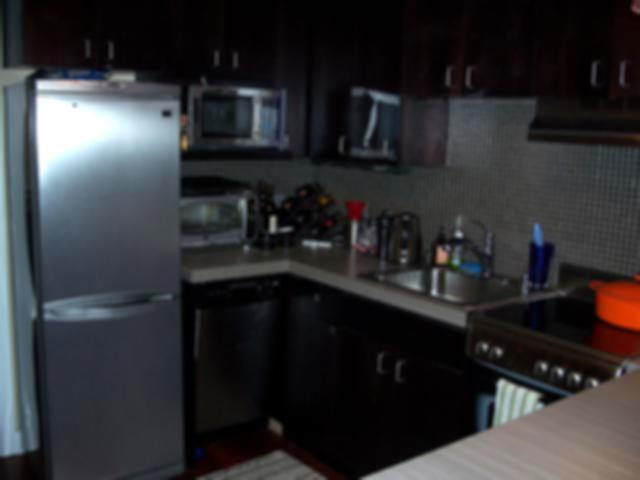Lavaplatos: (364, 231, 566, 322)
